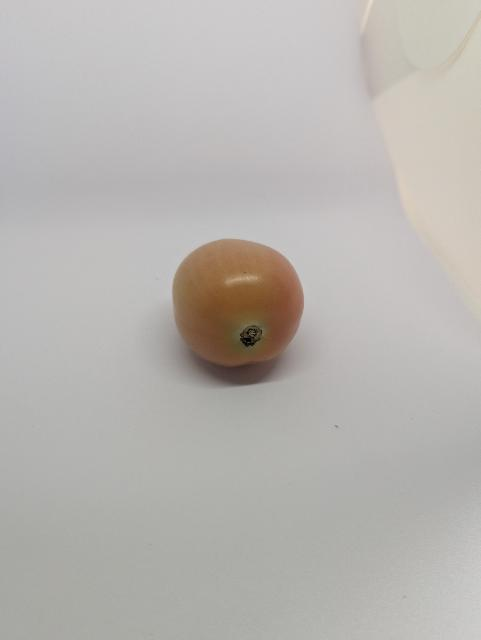turning: (160, 227, 317, 387)
